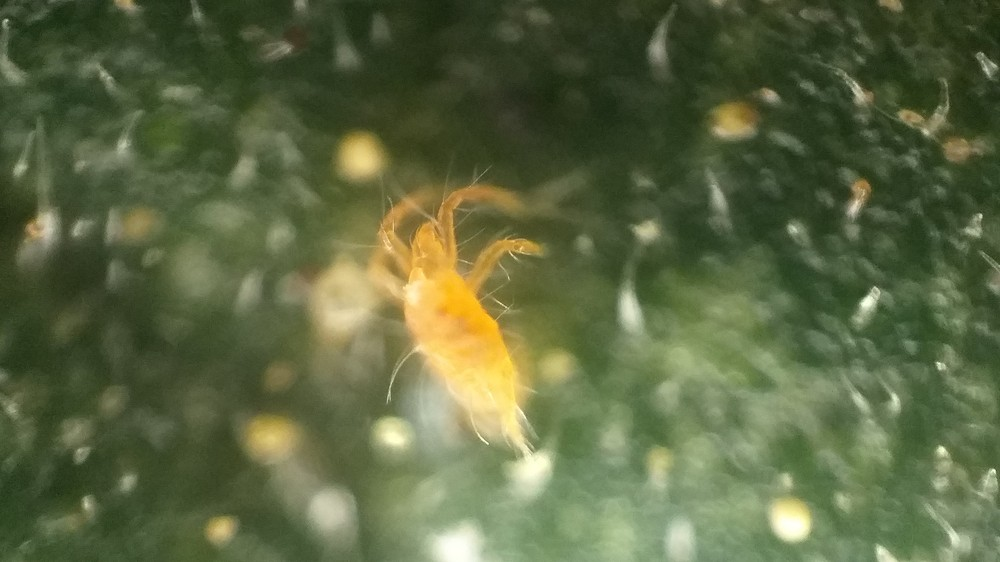Aracnido Rojo: (333, 158, 603, 470)
